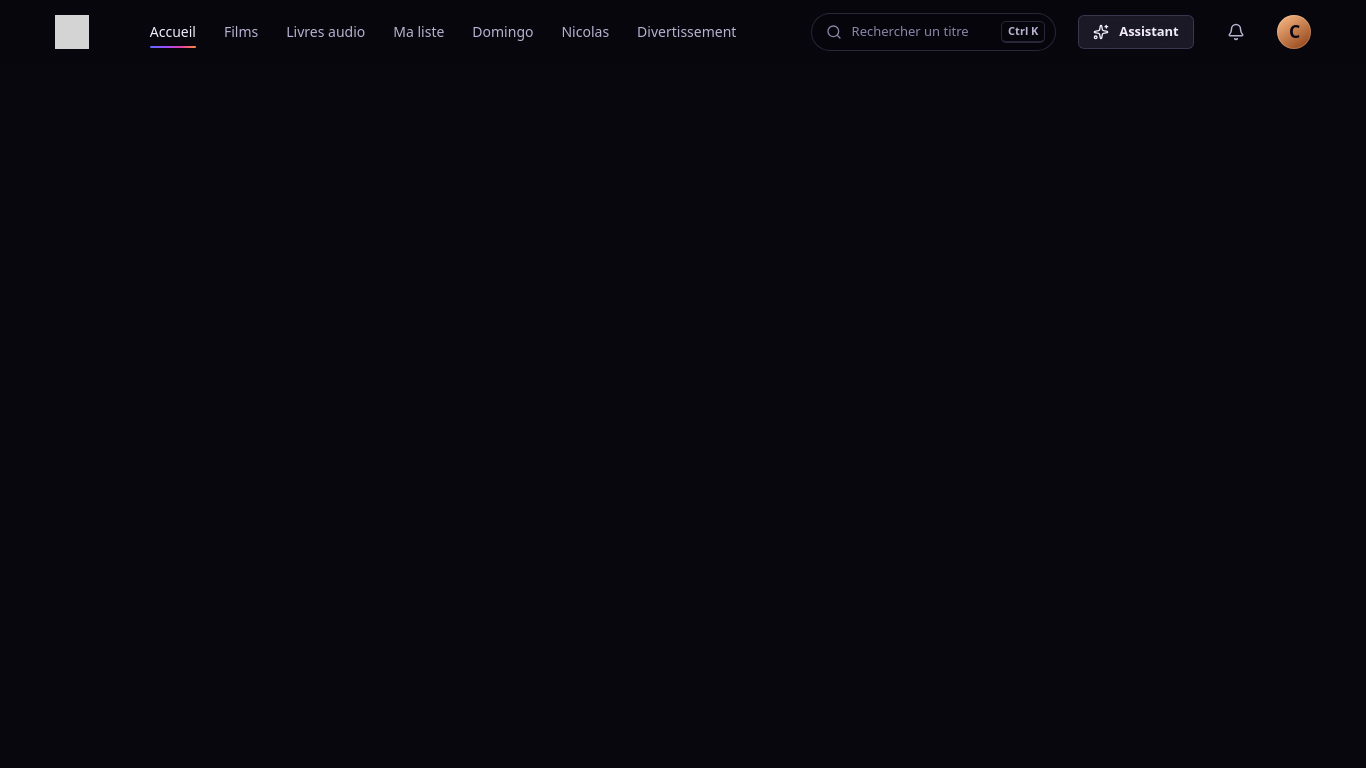
it: Nav : menu du profil › « Demander un titre » rend le focus au bouton du profil quand la fenêtre se ferme
Click the button named "Compte de Camille".
click(1294, 32)  # box 1277,14 -> 1311,48
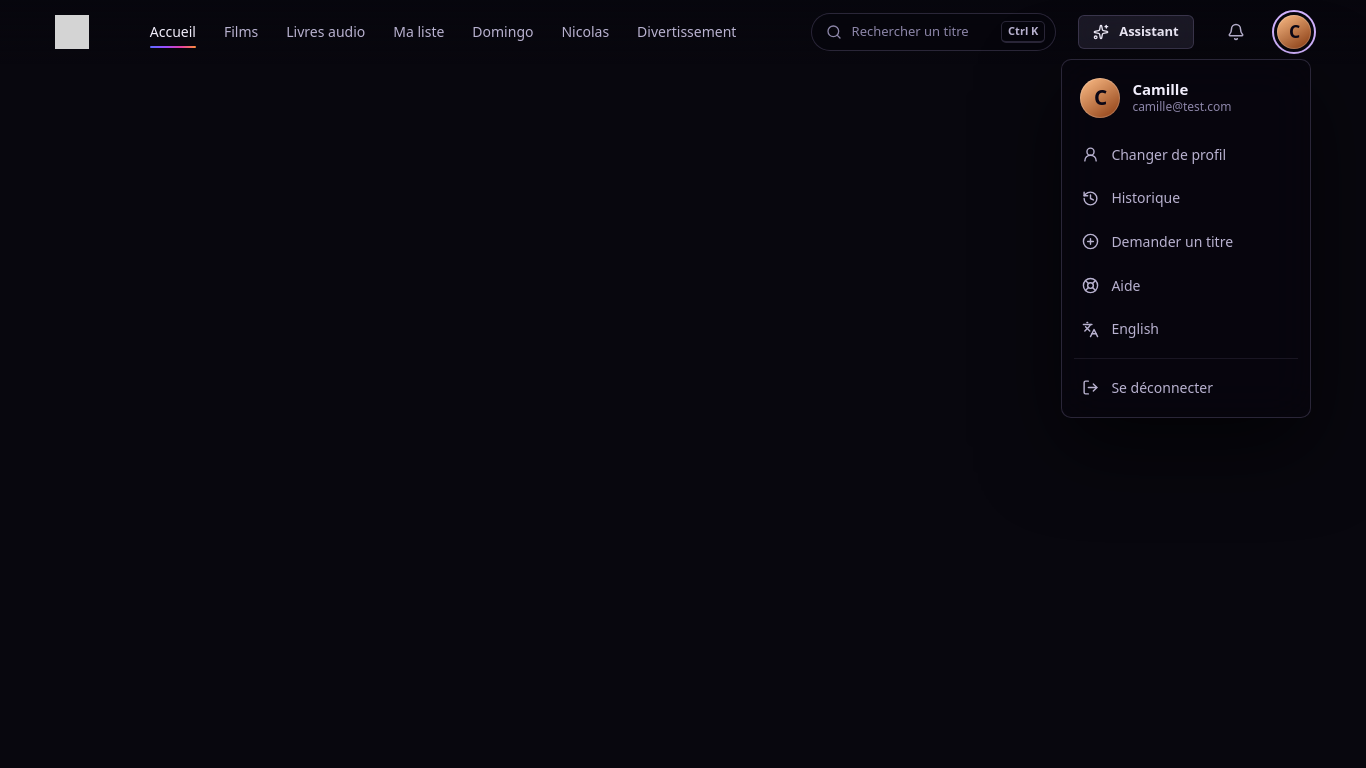
Click the menu item "Demander un titre".
click(1186, 242)  # box 1070,221 -> 1302,263
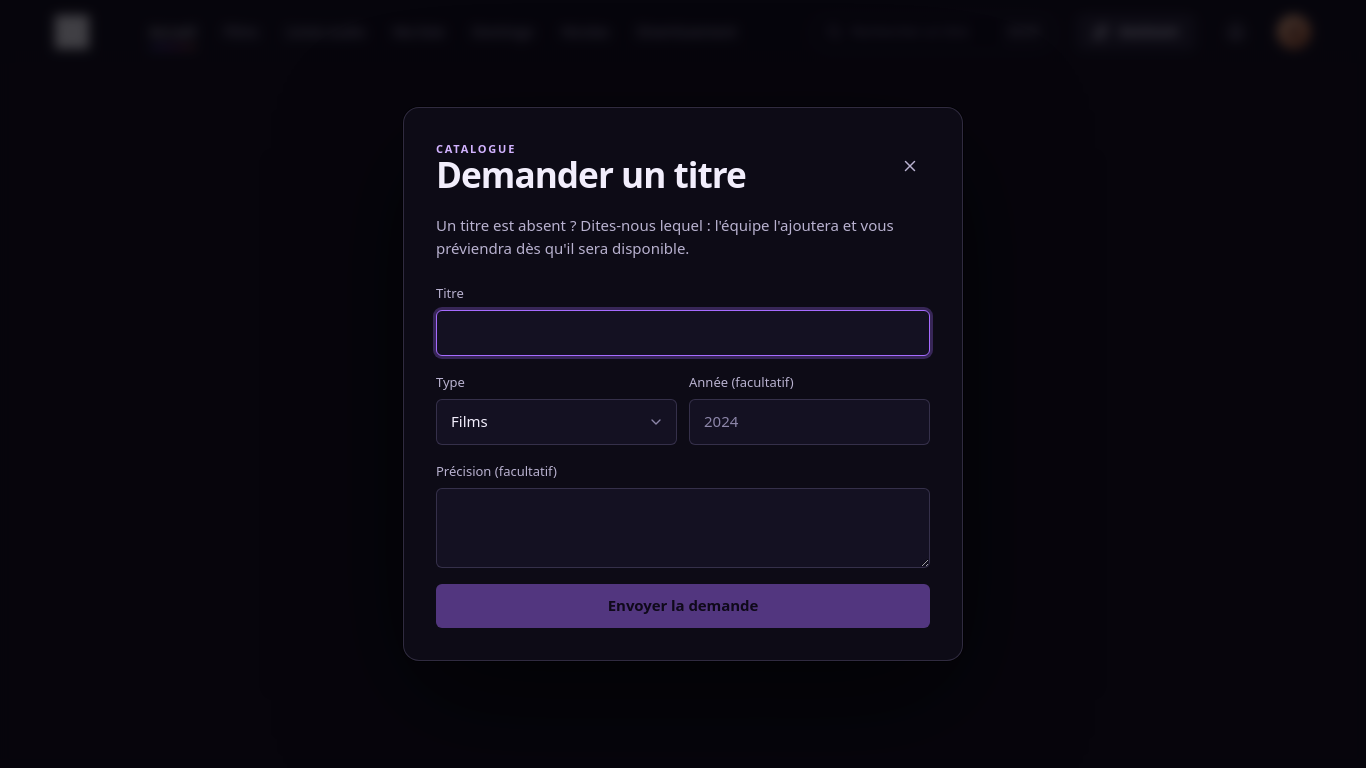
Expected: the dialog is shown, 403,107 -> 963,661
Press Escape
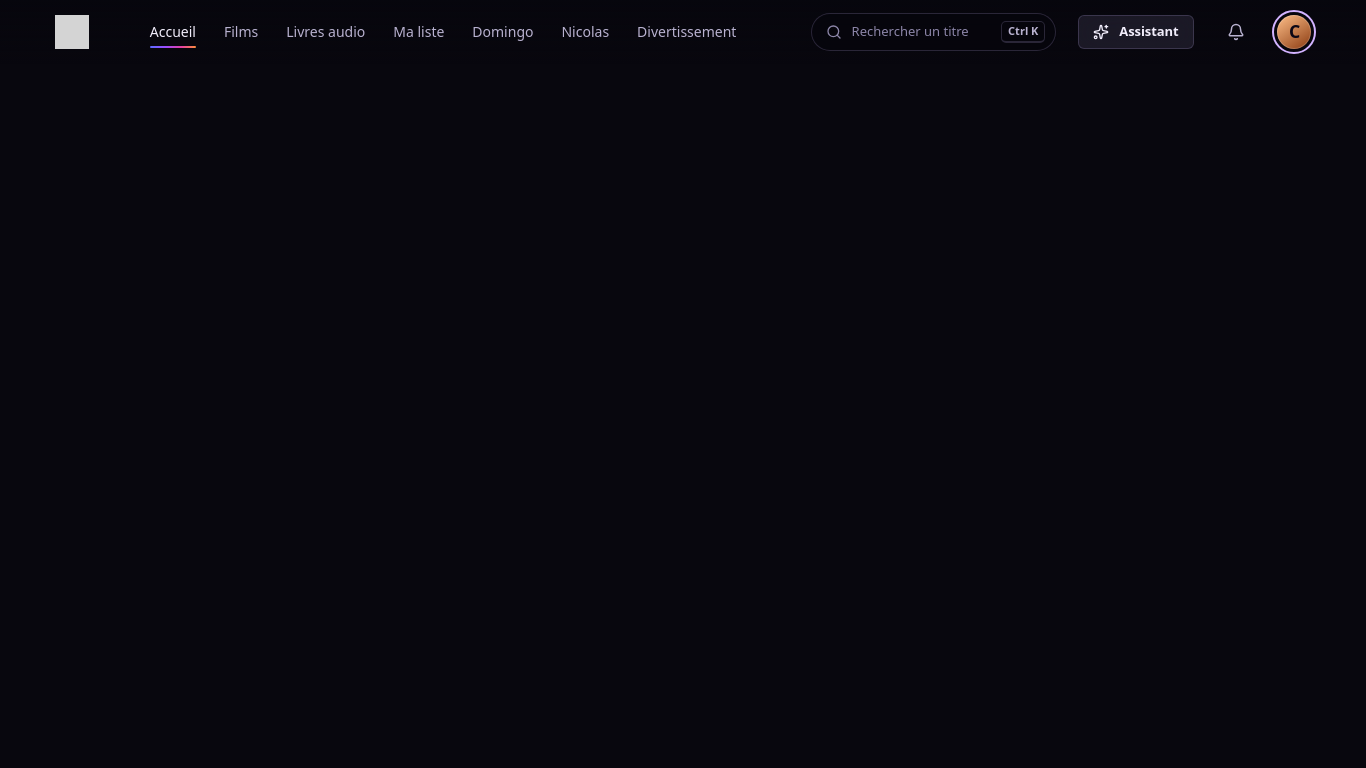
Expected: the dialog is gone
